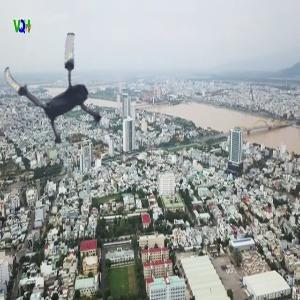drone: (1, 29, 127, 155)
